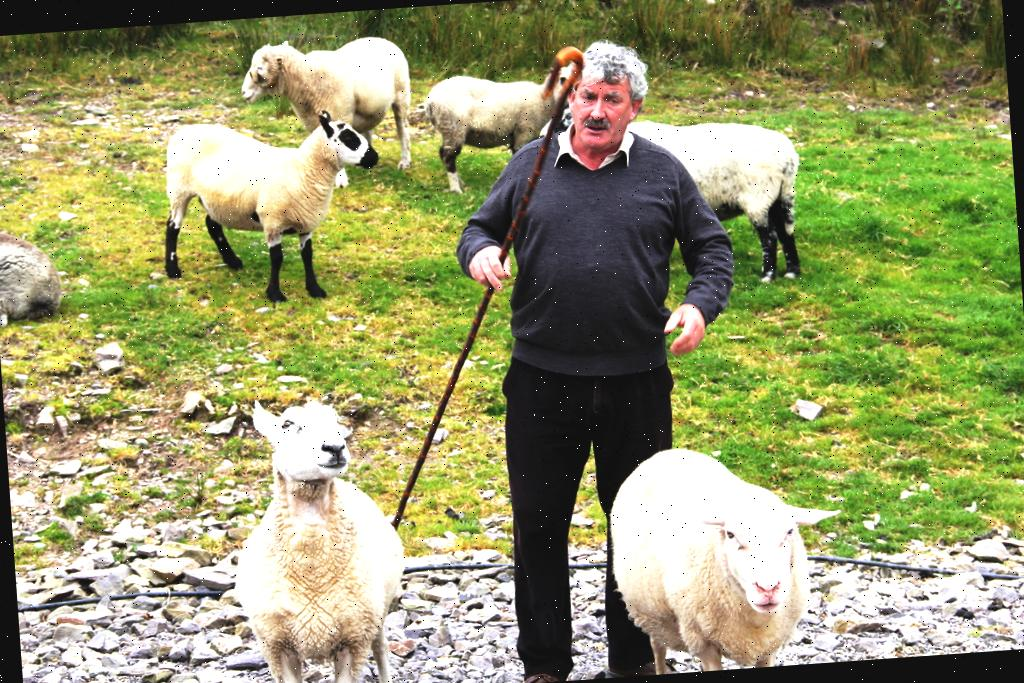Sheep: (211, 379, 448, 683), (600, 430, 858, 677), (530, 86, 810, 302), (140, 98, 390, 326), (236, 26, 420, 189), (422, 46, 588, 199)
